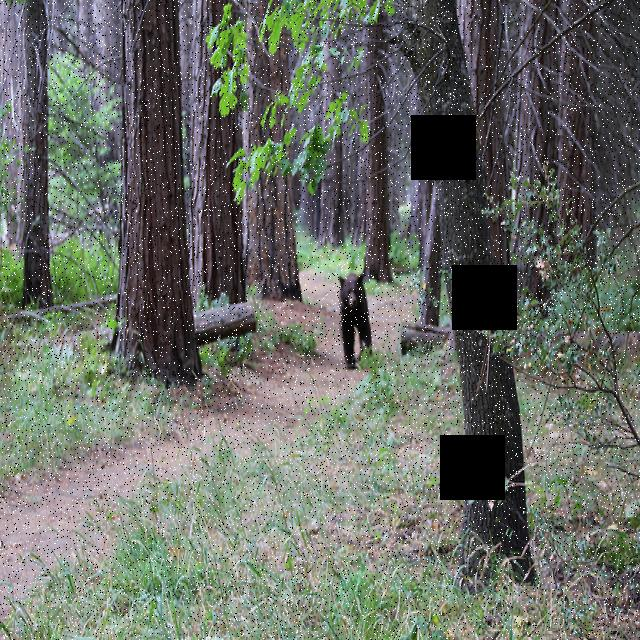Bear: (334, 268, 373, 372)
